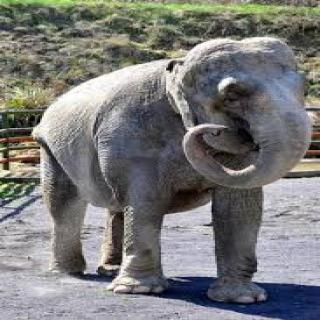Elephant: (28, 34, 315, 308)
